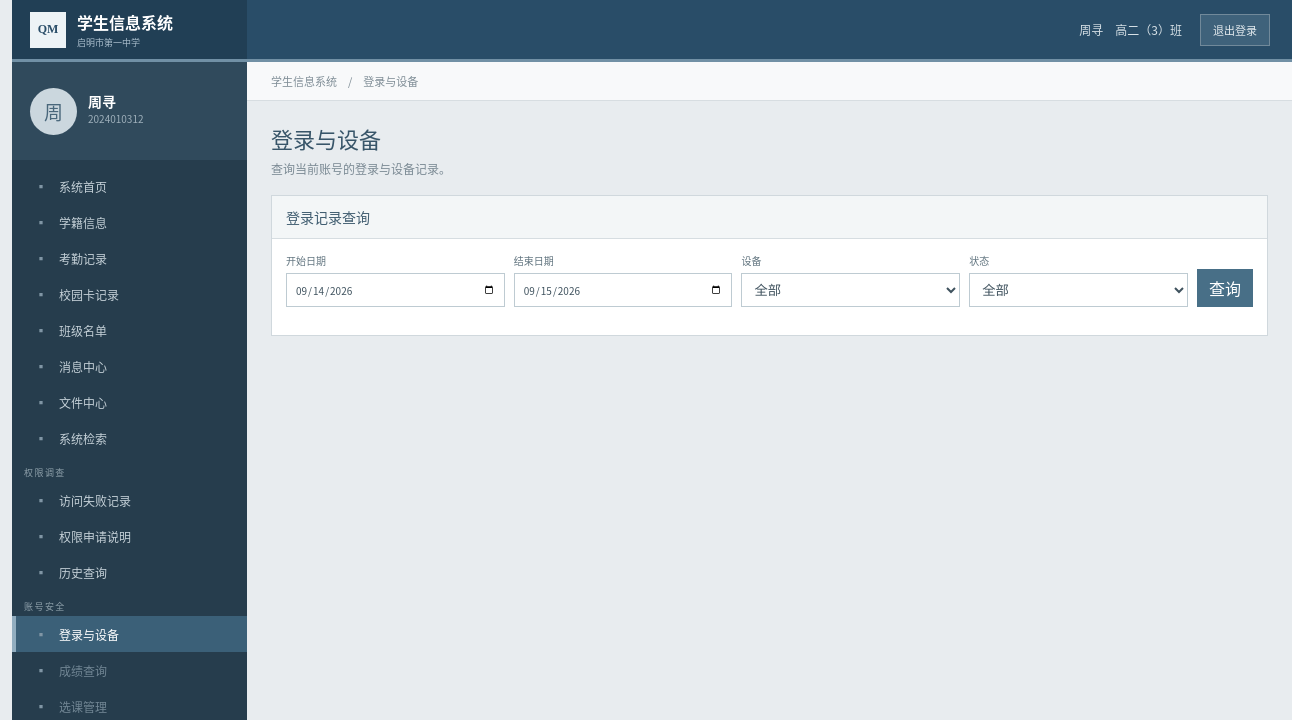
第五章页面与权限 › 默认日期范围覆盖跨日记录，正确核对后直接发现失踪后登录
Expected: the date field named "登录开始日期" holds "2026-09-14", 286,273 -> 505,307
Expected: the date field named "登录结束日期" holds "2026-09-15", 514,273 -> 732,307
Click the button "查询".
click(1225, 288)  # box 1197,269 -> 1253,307
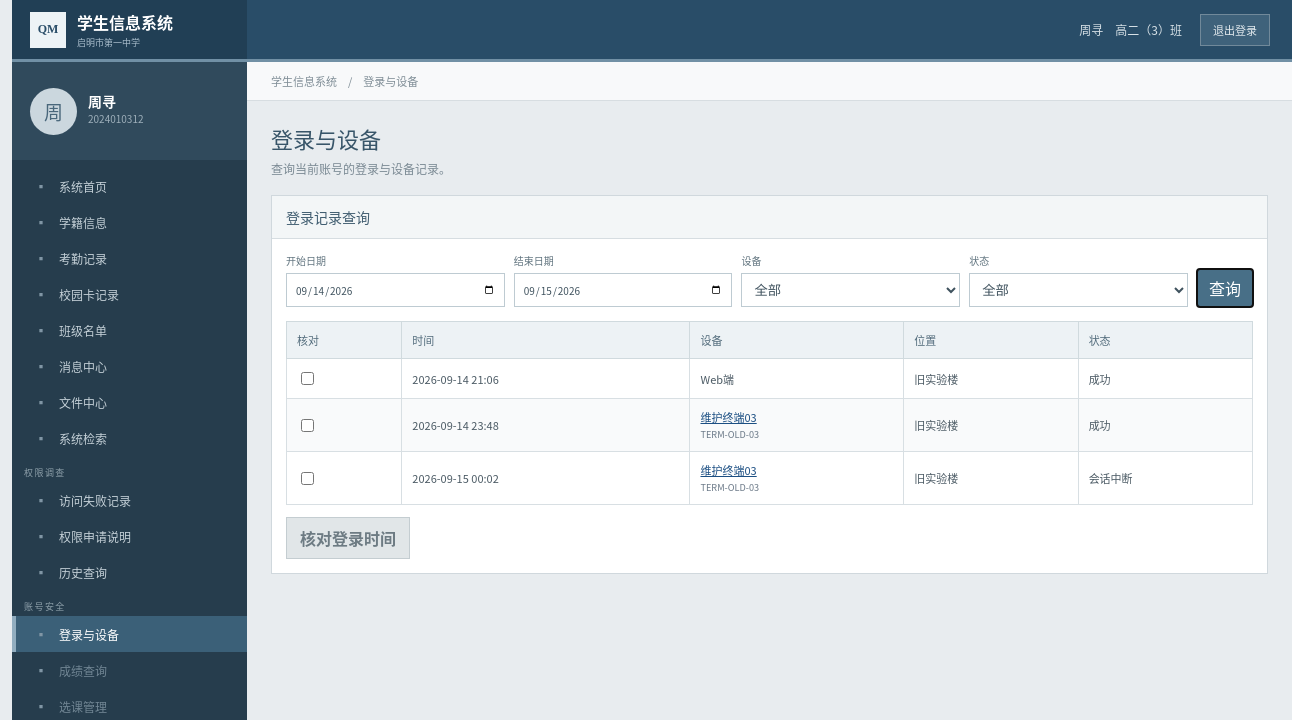
Result: the text "2026-09-14 23:48" is shown at 402,398 -> 690,452
Result: the text "2026-09-15 00:02" is shown at 402,452 -> 690,504
Click the checkbox named "选择2026-09-14 23:48".
click(308, 425)  # box 301,418 -> 314,432
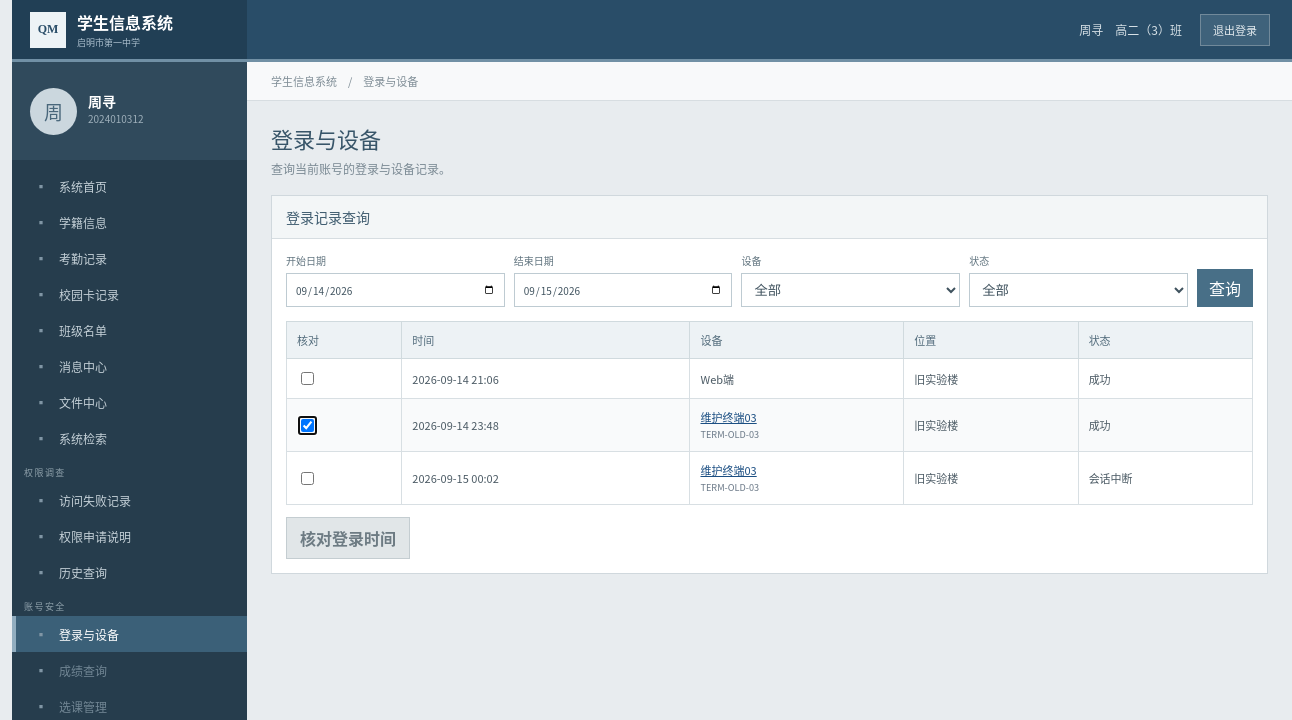
Result: the button "核对登录时间" is disabled at 286,517 -> 410,559
Click the checkbox named "选择2026-09-15 00:02".
click(308, 478)  # box 301,472 -> 314,484
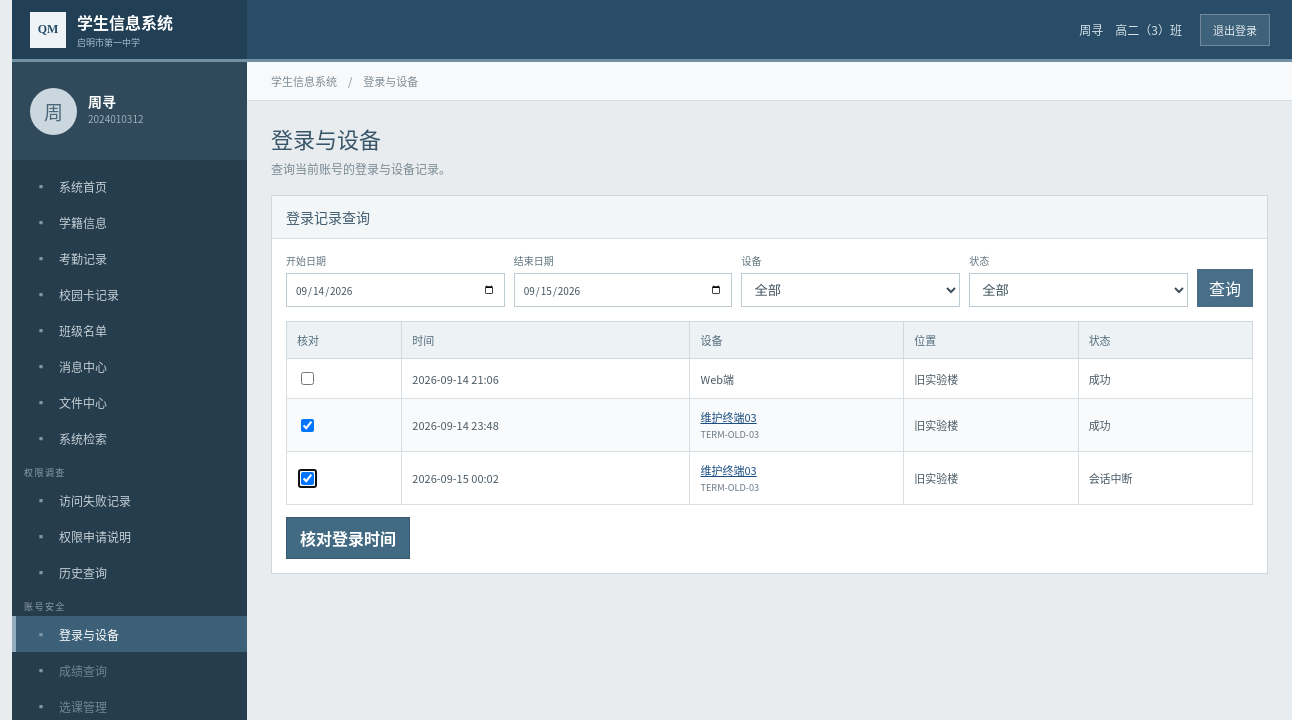
Click the button "核对登录时间".
click(348, 538)  # box 286,517 -> 410,559
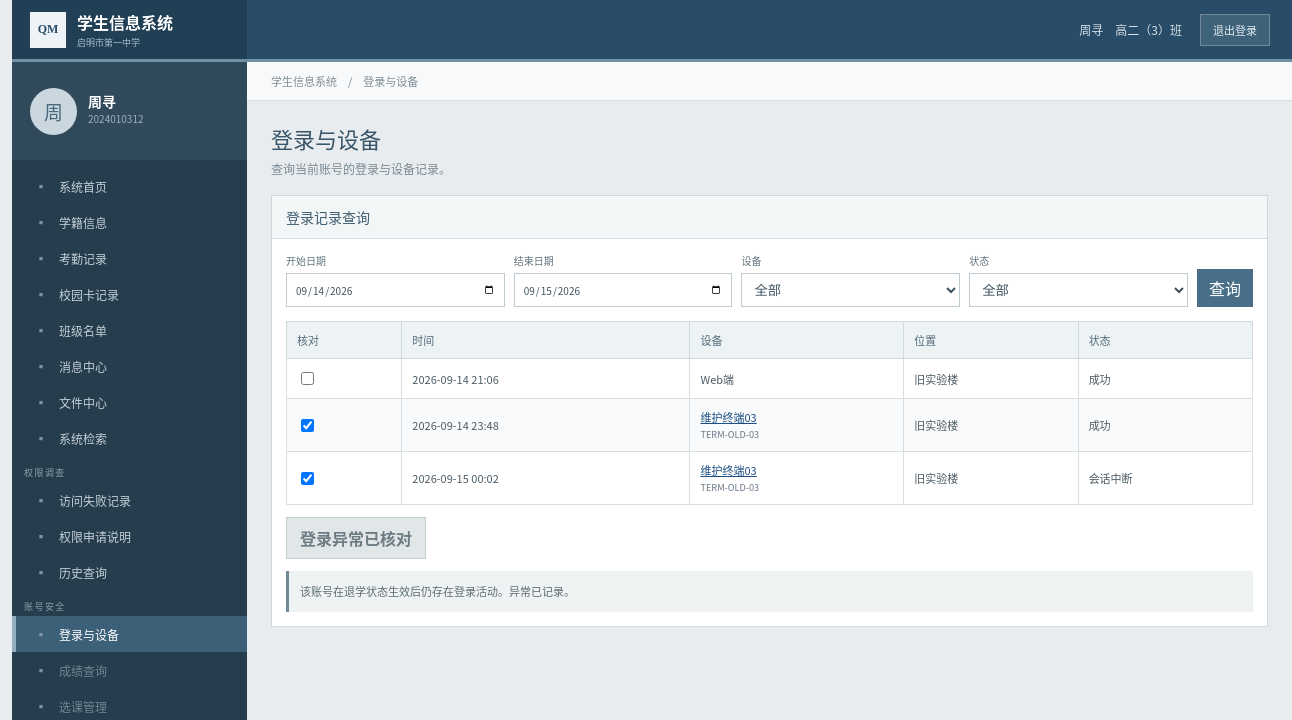
Result: the button "登录异常已核对" is disabled at 286,517 -> 426,559
